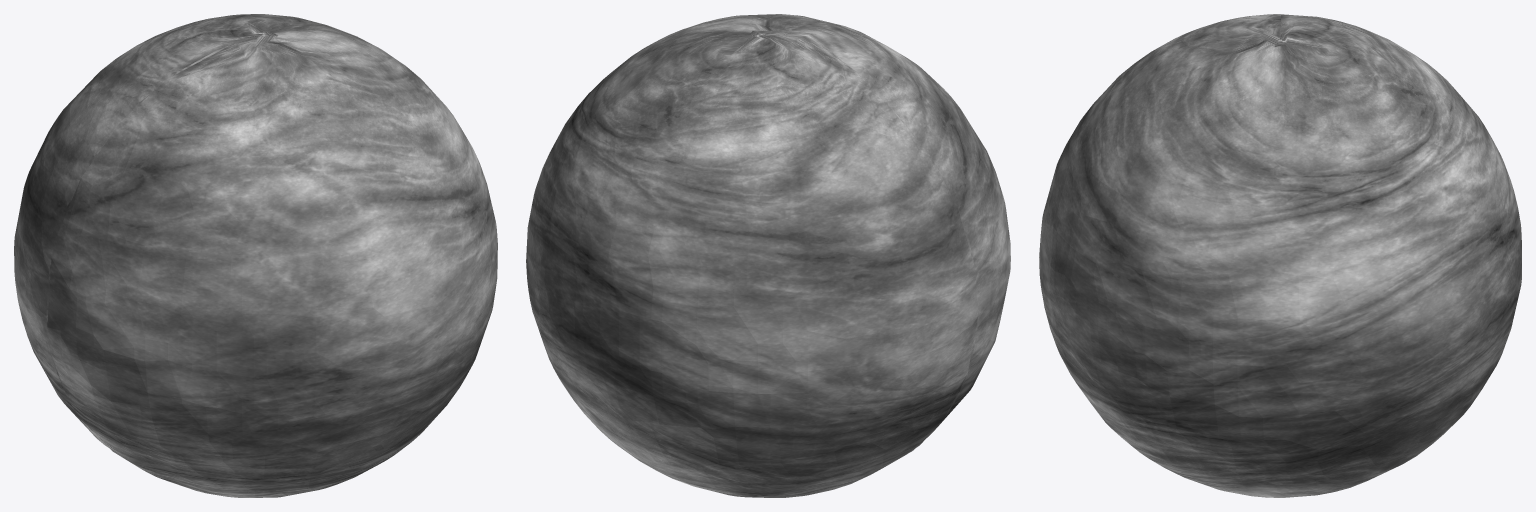
Rendered from SmokeGrenade.obj.
3 renders of one model, left to right at view 1: azimuth 30°, elevation 25°; view 2: azimuth 150°, elevation 25°; view 3: azimuth 270°, elevation 25°, orthographic.
Parts seen in each view (by area): view 1: Sphere_Plane; view 2: Sphere_Plane; view 3: Sphere_Plane.
Boxes of the visible parts, left/top/right/bottom form: Sphere_Plane: left=14, top=14, right=497, bottom=497; Sphere_Plane: left=526, top=14, right=1010, bottom=497; Sphere_Plane: left=1039, top=14, right=1521, bottom=497.
Size of the model in its own units: 0.9778 by 0.9787 by 0.9759.
Materials: 1 (1 with a texture image).
